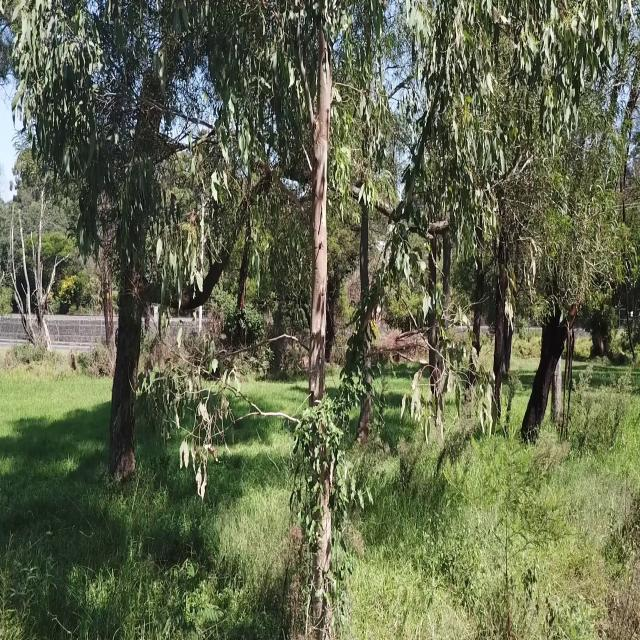Mysore-Thorn-Weed: (168, 558, 230, 628)
